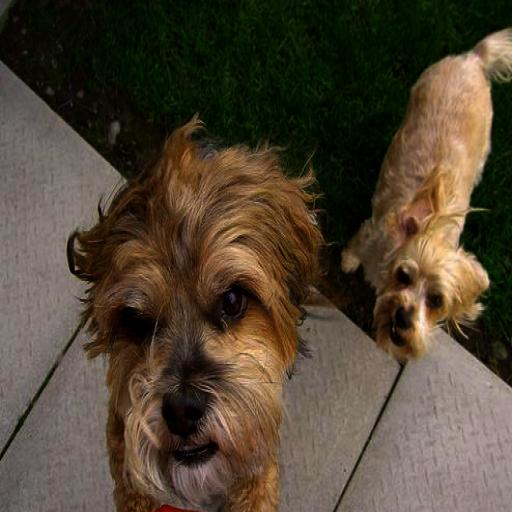dog_face: (90, 174, 280, 468), (376, 194, 474, 352)
